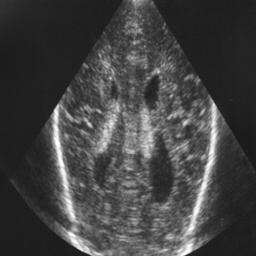abnormal: (50, 37, 224, 249)
